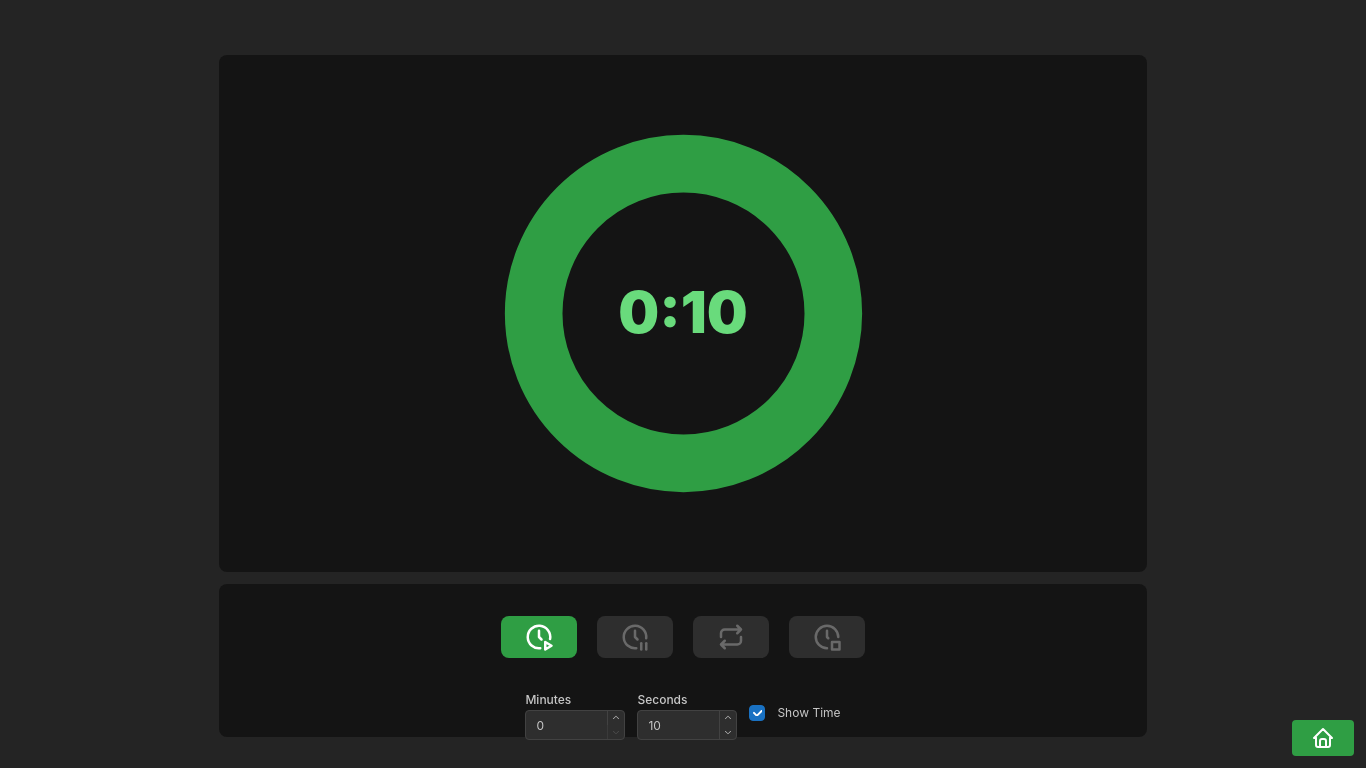
Test: hourglass timer › should start the timer
Click the button titled "Start" at point(539, 637), box [501,616,577,658]
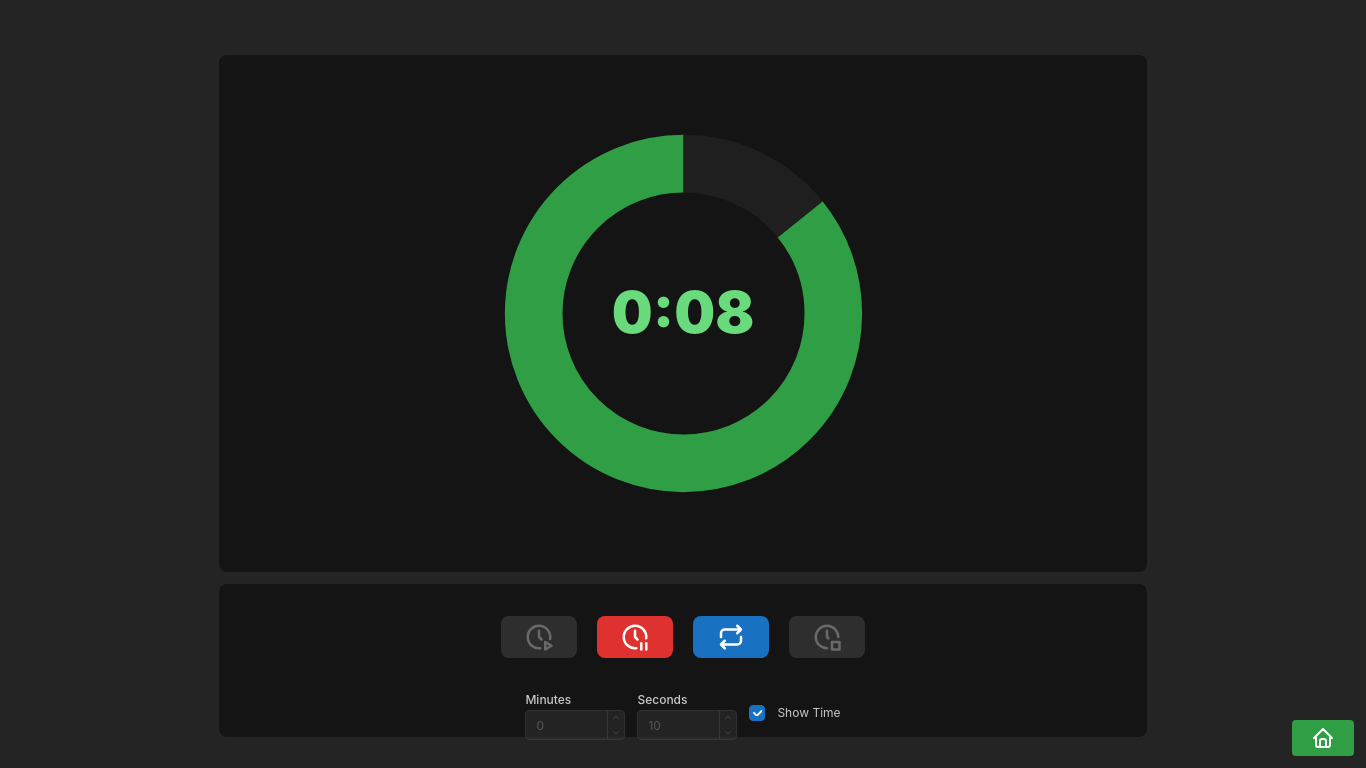
Expected: the button titled "Start" is disabled, [501,616,577,658]
Expected: the field with test id "timeInput-minutes" is disabled, [525,710,625,740]
Expected: the field with test id "timeInput-seconds" is disabled, [637,710,737,740]
